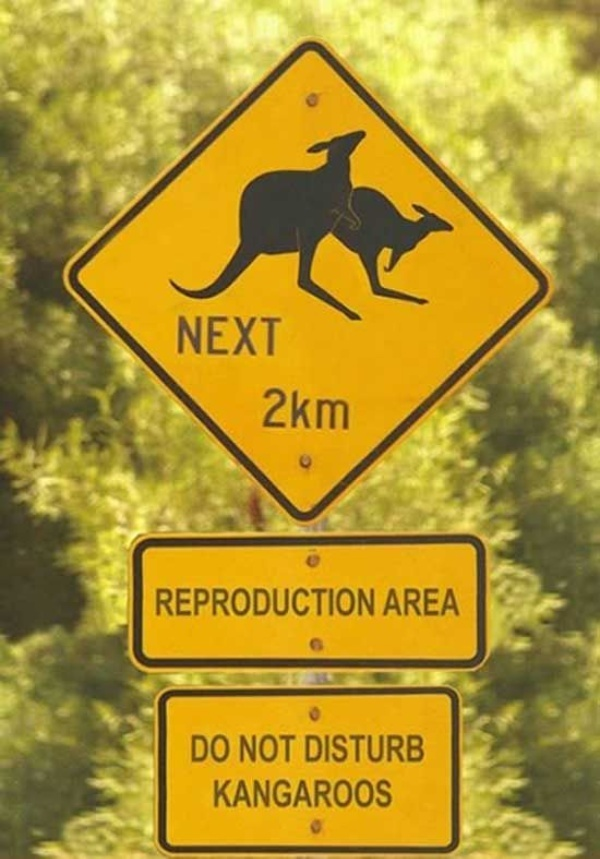text: (273, 386, 288, 432), (289, 386, 304, 432), (305, 386, 320, 432), (321, 386, 336, 432), (177, 315, 192, 356), (193, 315, 208, 356), (209, 315, 224, 356), (225, 315, 240, 356), (241, 315, 256, 356), (257, 315, 272, 356), (337, 386, 350, 432), (261, 386, 272, 432), (225, 778, 240, 809), (241, 778, 256, 809), (257, 778, 272, 809), (273, 778, 288, 809), (289, 778, 304, 809), (305, 778, 320, 809), (321, 778, 336, 809), (337, 778, 352, 809), (353, 778, 368, 809), (369, 778, 384, 809), (241, 734, 256, 765), (257, 734, 272, 765), (273, 734, 288, 765), (161, 587, 176, 617), (177, 587, 192, 617), (193, 587, 208, 617), (209, 587, 224, 617), (225, 587, 240, 617), (241, 587, 256, 617), (257, 587, 272, 617), (273, 587, 288, 617), (289, 587, 304, 617), (305, 587, 320, 617), (321, 587, 336, 617), (337, 587, 352, 617), (353, 587, 368, 617), (401, 588, 416, 617), (417, 588, 432, 617), (433, 588, 448, 617), (193, 734, 208, 763), (209, 734, 224, 763), (305, 734, 320, 762), (321, 734, 336, 762), (337, 734, 352, 762), (353, 734, 368, 762), (369, 734, 384, 762), (385, 734, 400, 762), (401, 734, 416, 762), (273, 315, 283, 356), (449, 588, 463, 617), (212, 778, 224, 809), (389, 588, 400, 617), (417, 734, 426, 762), (385, 778, 393, 809), (289, 734, 297, 765), (369, 587, 376, 617), (154, 587, 160, 617), (225, 734, 231, 763), (190, 734, 192, 763)
